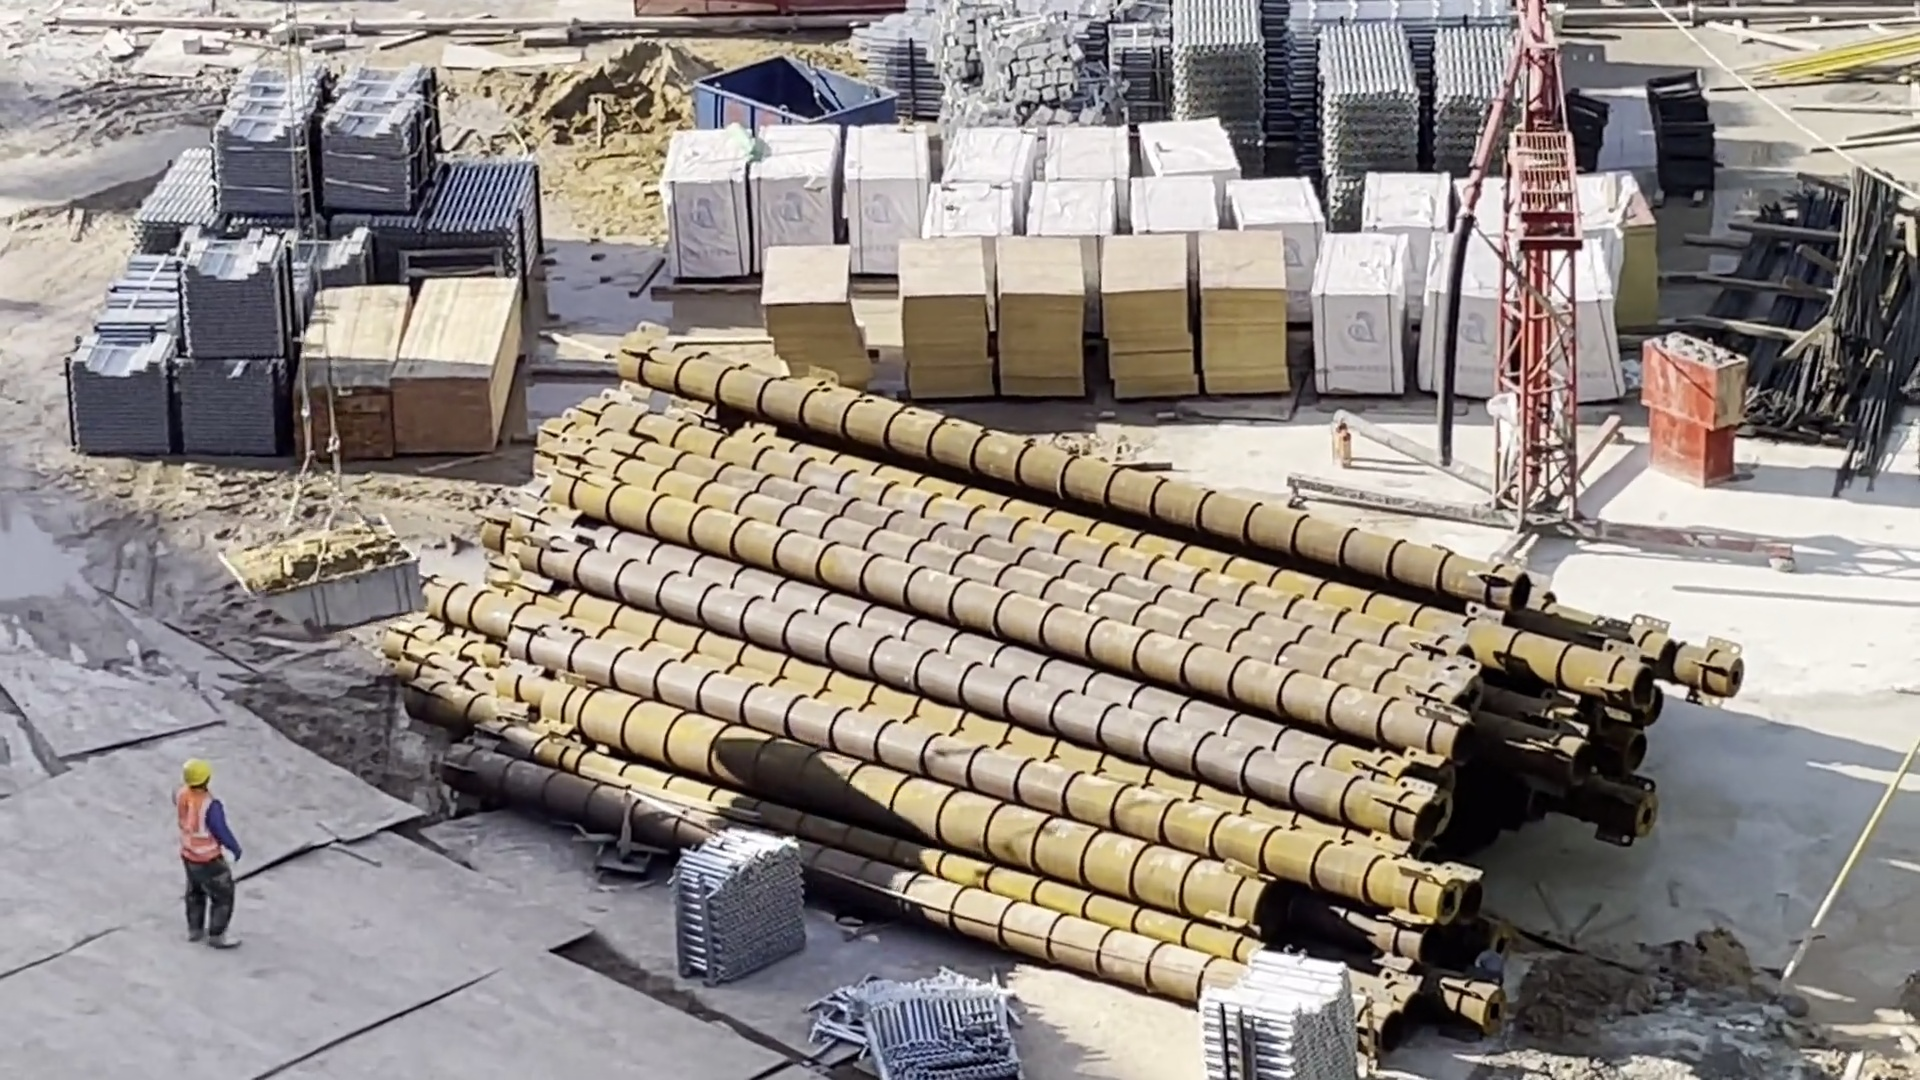board: (413, 271, 507, 455), (887, 243, 985, 411), (765, 248, 867, 401), (1115, 247, 1193, 412), (1000, 245, 1073, 409), (1202, 234, 1275, 397)
helmet: (183, 756, 209, 792)
hopper: (225, 527, 410, 608), (689, 56, 875, 130)
person: (167, 761, 243, 952)
rebar: (1734, 210, 1817, 403), (1848, 270, 1915, 468), (1691, 215, 1766, 345), (1829, 183, 1882, 353)
scaffold: (824, 973, 1015, 1080), (1208, 963, 1361, 1077), (659, 844, 784, 964), (1327, 36, 1439, 157), (1181, 1, 1272, 124), (134, 149, 224, 255), (1439, 29, 1512, 141), (438, 170, 530, 247), (1296, 5, 1509, 35)
vest: (177, 799, 221, 867)
wood: (294, 302, 397, 470)
